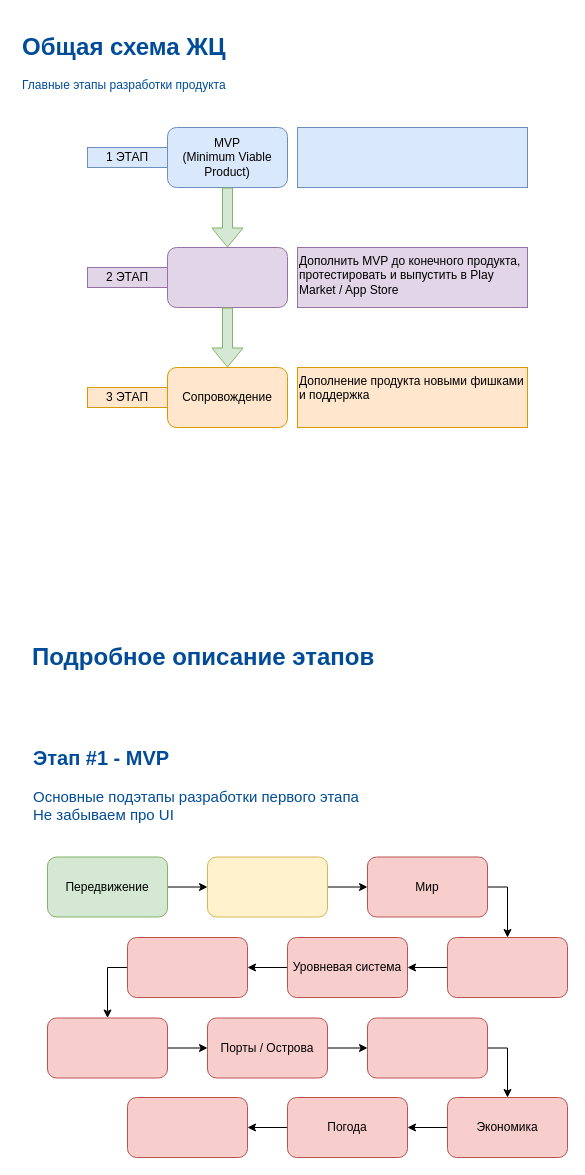
This 585x1175 diagram has some shape labels left out. The centre of each missing label's shape, as x and y in pixels:
Готовый продукт: pixel 227 277
ИИ / Мобы: pixel 507 967
Лут: pixel 427 1047
Навыки: pixel 107 1047
Прокачка: pixel 187 967
Сохранение/Загрузка: pixel 187 1127
Стрельба: pixel 267 886
